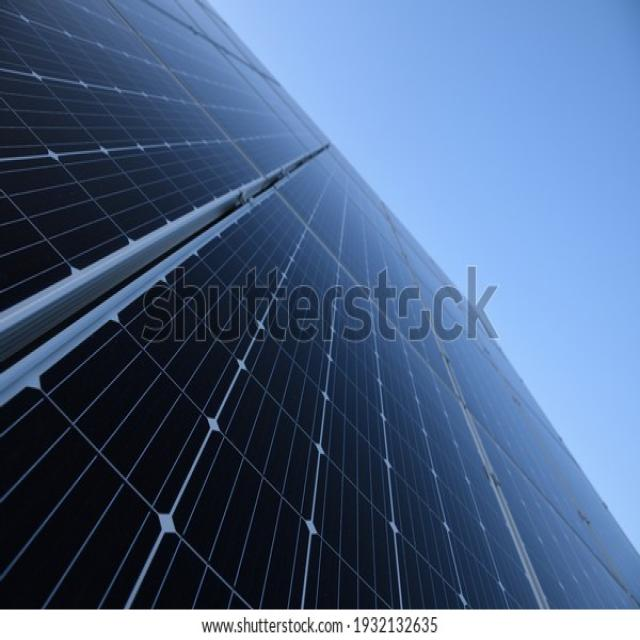clean-solar-panel: (1, 0, 640, 609)
